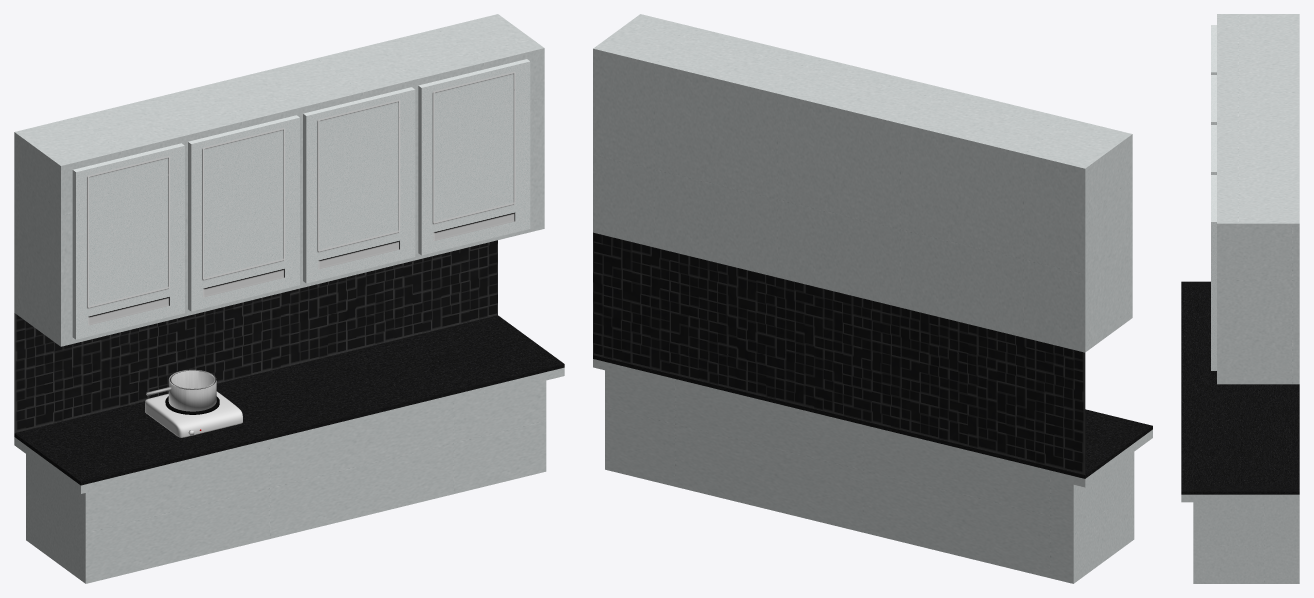
The model's file is KitchenScene.fbx.
The picture shows the model from 3 angles, left to right: view 1: azimuth 30°, elevation 25°; view 2: azimuth 150°, elevation 25°; view 3: azimuth 270°, elevation 25°; orthographic projection. The views are drawn at different scales.
Visible parts, largest first — view 1: CabinetDoors, CounterBase, Cabinets, CounterBackwall, CounterTop, BurnerBase, Pot; view 2: Cabinets, CounterBackwall, CounterBase, CounterTop; view 3: Cabinets, CounterTop, CounterBase, CabinetDoors.
Part boxes in pixels (x1,y1,x2,y2): CabinetDoors: (72, 59, 530, 339); CounterBase: (14, 367, 564, 583); Cabinets: (14, 14, 544, 346); CounterBackwall: (14, 240, 497, 433); CounterTop: (14, 315, 564, 485); BurnerBase: (145, 391, 242, 437); Pot: (146, 369, 216, 411); Cabinets: (593, 14, 1132, 352); CounterBackwall: (593, 232, 1085, 474); CounterBase: (593, 359, 1152, 583); CounterTop: (593, 355, 1152, 478); Cabinets: (1217, 14, 1299, 384); CounterTop: (1181, 281, 1299, 494); CounterBase: (1181, 494, 1299, 583); CabinetDoors: (1211, 25, 1216, 370).
Size of the model in its own units: 420 by 341 by 100.
